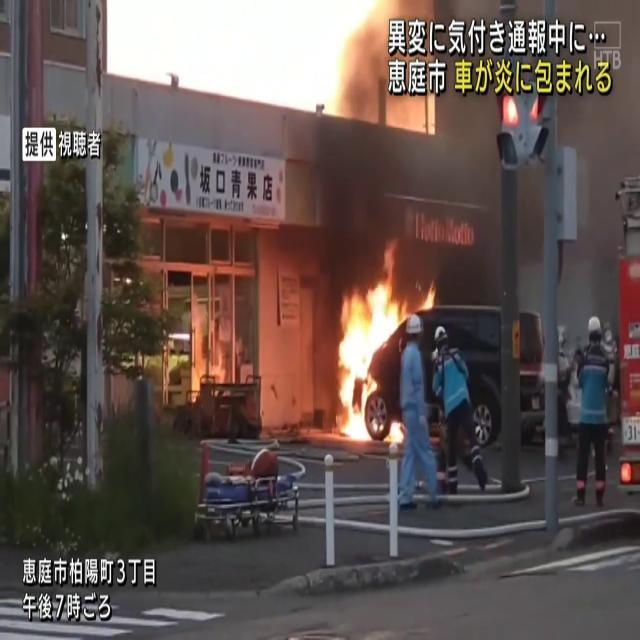Fire: (328, 268, 414, 444)
Smoke: (299, 2, 416, 274)
